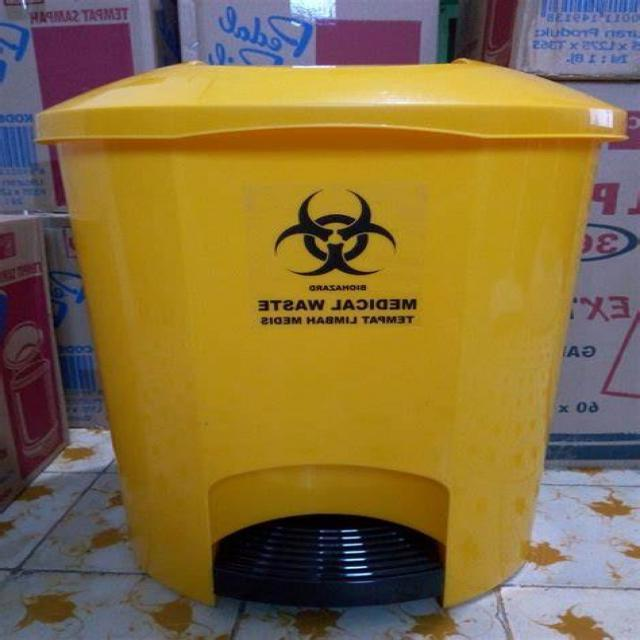garbage container: (31, 52, 631, 626)
